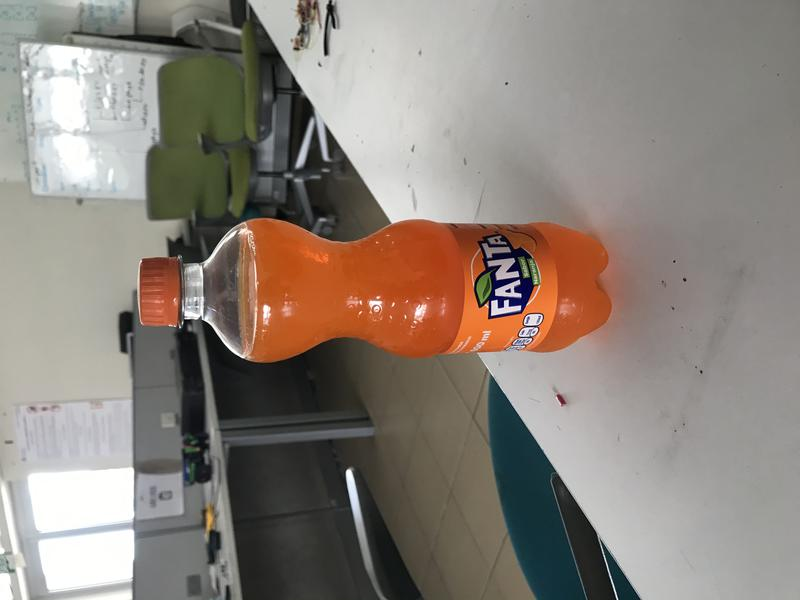fanta: (137, 216, 613, 363)
